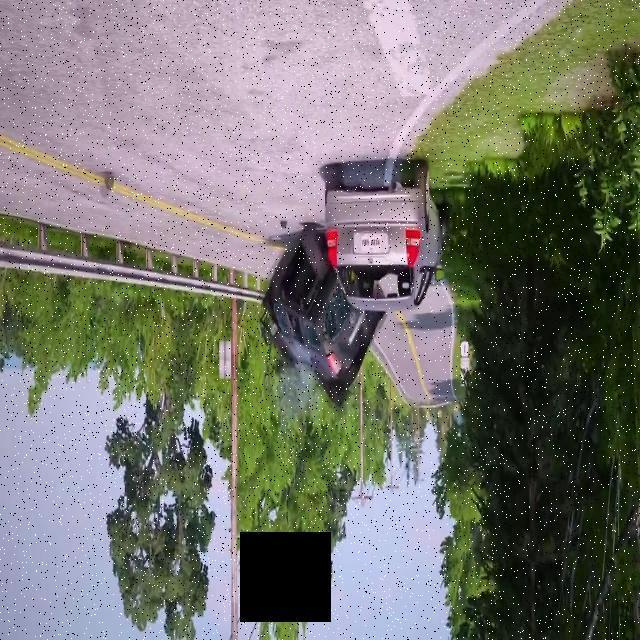person: (228, 208, 408, 428)
